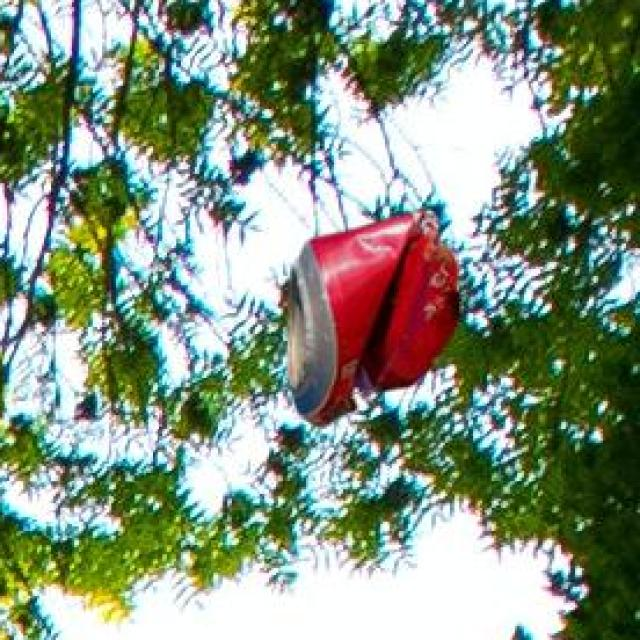logam: (291, 205, 463, 423)
